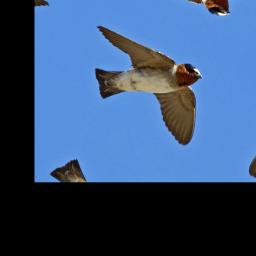Swallow: (66, 22, 220, 149)
